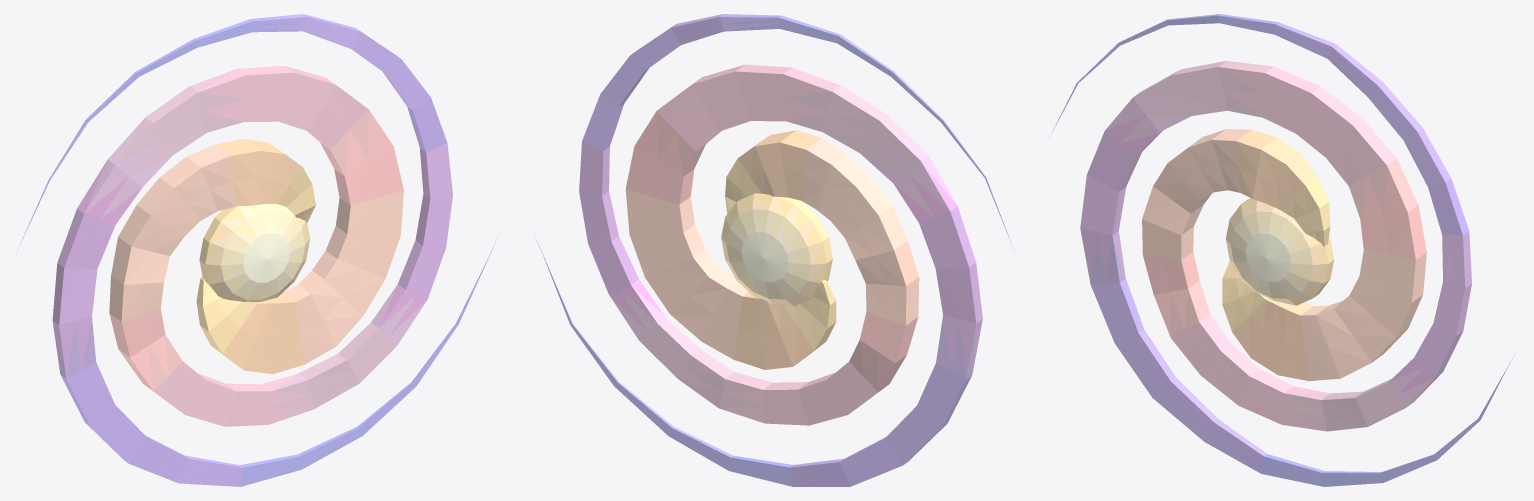
The model's file is galaxy-001.glb.
The picture shows the model from 3 angles, left to right: view 1: azimuth 30°, elevation 25°; view 2: azimuth 150°, elevation 25°; view 3: azimuth 330°, elevation 25°; orthographic projection. The views are drawn at different scales.
Visible parts, largest first — view 1: galaxy-001; view 2: galaxy-001; view 3: galaxy-001.
Part boxes in pixels (x1,y1,x2,y2): galaxy-001: [16, 14, 497, 486]; galaxy-001: [533, 14, 1014, 486]; galaxy-001: [1050, 14, 1514, 486].
Bounding box in the file's own units: 113 × 103 × 10.74.
